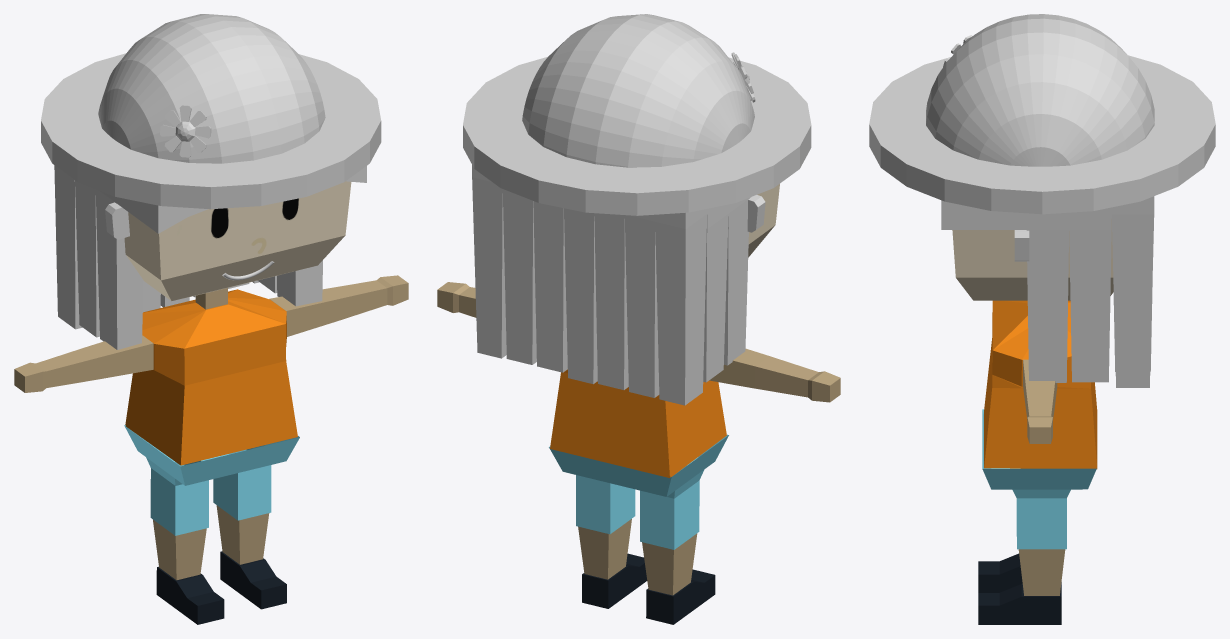
File: Azalea.fbx
The picture shows the model from 3 angles, left to right: view 1: azimuth 30°, elevation 25°; view 2: azimuth 150°, elevation 25°; view 3: azimuth 270°, elevation 25°; orthographic projection. The views are drawn at different scales.
Parts seen in each view (by area): view 1: cabezaMesh001, Sphere003, Cylinder002, playeraAzalea001, Box007, pantalonAzalea001, zapatosAzalea001, Box008, Box006; view 2: Box007, Sphere003, Cylinder002, playeraAzalea001, cabezaMesh001, pantalonAzalea001, zapatosAzalea001, Box006; view 3: Sphere003, Cylinder002, Box007, playeraAzalea001, cabezaMesh001, pantalonAzalea001, zapatosAzalea001, Box005.
Part boxes in pixels (<box>): cabezaMesh001: <box>14,181,408,580</box>; Sphere003: <box>98,14,325,163</box>; Cylinder002: <box>41,53,381,209</box>; playeraAzalea001: <box>125,289,297,465</box>; Box007: <box>54,165,366,349</box>; pantalonAzalea001: <box>124,425,299,535</box>; zapatosAzalea001: <box>156,551,286,624</box>; Box008: <box>160,105,211,157</box>; Box006: <box>105,202,129,239</box>; Box007: <box>472,165,750,405</box>; Sphere003: <box>522,14,754,167</box>; Cylinder002: <box>463,57,811,215</box>; playeraAzalea001: <box>550,369,726,477</box>; cabezaMesh001: <box>437,184,840,595</box>; pantalonAzalea001: <box>549,434,728,549</box>; zapatosAzalea001: <box>582,553,715,624</box>; Box006: <box>747,195,765,232</box>; Sphere003: <box>926,14,1154,166</box>; Cylinder002: <box>869,55,1215,214</box>; Box007: <box>941,196,1154,387</box>; playeraAzalea001: <box>984,300,1097,468</box>; cabezaMesh001: <box>952,219,1113,595</box>; pantalonAzalea001: <box>982,409,1096,549</box>; zapatosAzalea001: <box>978,553,1061,624</box>; Box005: <box>1014,230,1029,261</box>.
Size of the model in its own units: 115 by 163 by 88.69.
6 materials, 1 textured.
